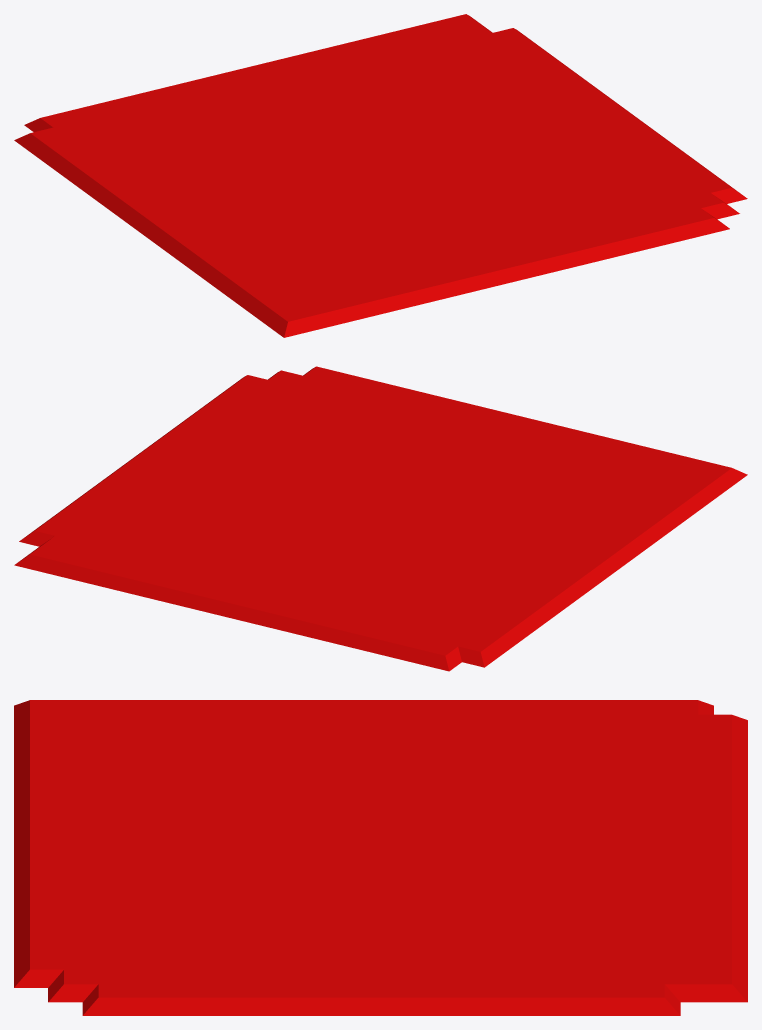
The picture shows the model from 3 angles, top to bottom: view 1: azimuth 30°, elevation 25°; view 2: azimuth 150°, elevation 25°; view 3: azimuth 270°, elevation 25°; orthographic projection. The views are drawn at different scales.
Parts seen in each view (by area): view 1: Mesh; view 2: Mesh; view 3: Mesh.
Boxes of the visible parts, x1,y1,x2,y2 form: Mesh: (14, 14, 747, 337); Mesh: (14, 366, 747, 671); Mesh: (14, 700, 747, 1015).
Bounding box in the file's own units: 2 × 0.0357 × 2.
